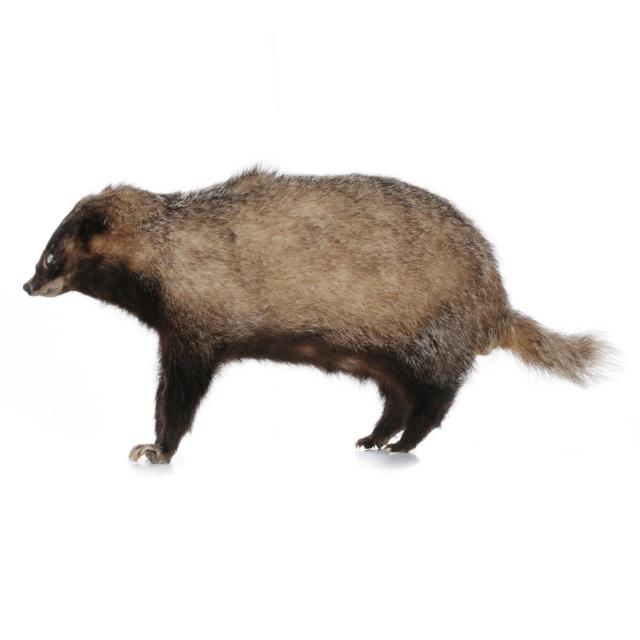badger: (18, 167, 618, 461)
